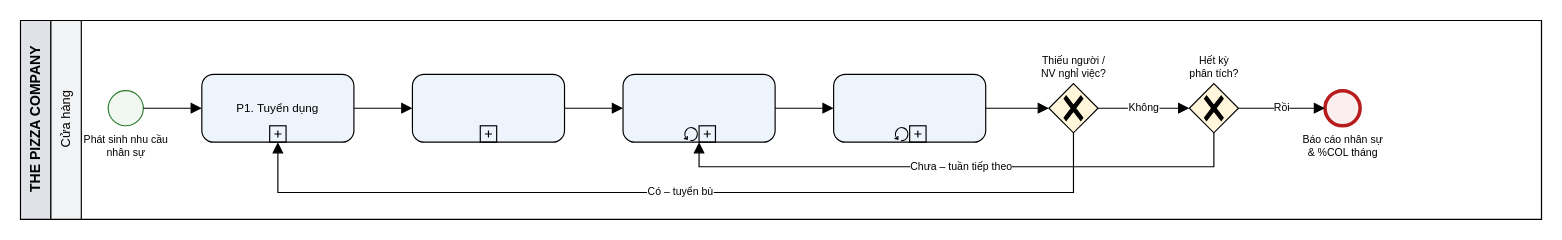
Some shapes in this 1562 by 240 pixel diagram are drawn without their labels. The shapes that lost their labels are listed below. From the top down, each one's box as (x1, y1, x2, y2) in pixels, then its label:
(411, 73, 565, 142): P2. Onboarding & đào tạo
(622, 73, 775, 142): P3. Xếp ca (hằng tuần)
(832, 73, 986, 142): P4. Chấm công & theo dõi %COL
